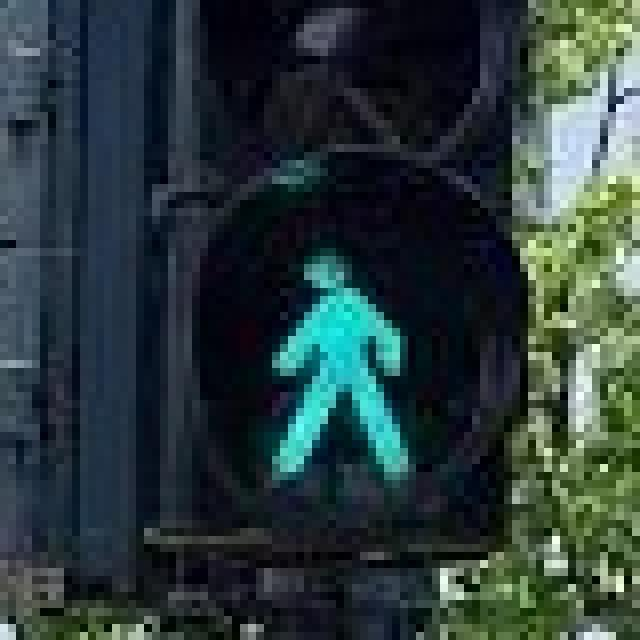geen-crossing: (232, 216, 440, 512)
